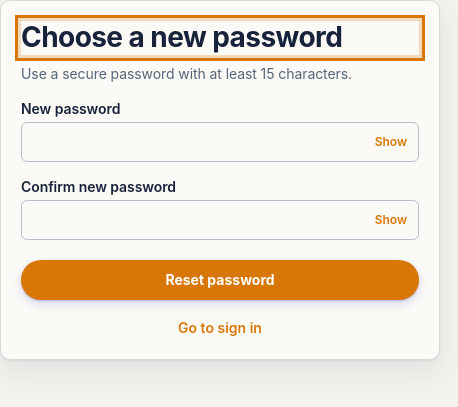
Test: renders reset fields, removes the proof from browser history, and validates mismatches
Type "a secure replacement password" into the password field labelled "New password" at (220, 142), box [21, 122, 419, 162]
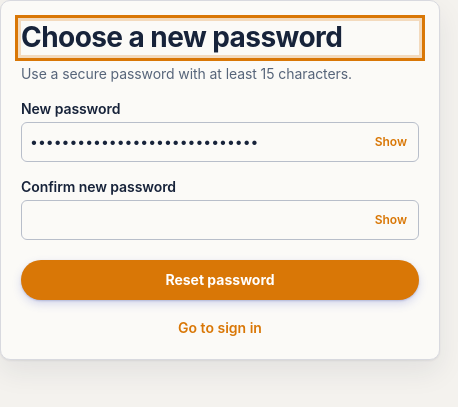
Type "different replacement password" into the password field labelled "Confirm new password" at (220, 220), box [21, 200, 419, 240]
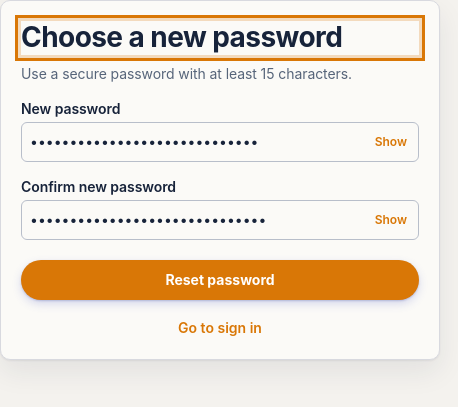
Click the button "Reset password" at (220, 280), box [21, 260, 419, 300]
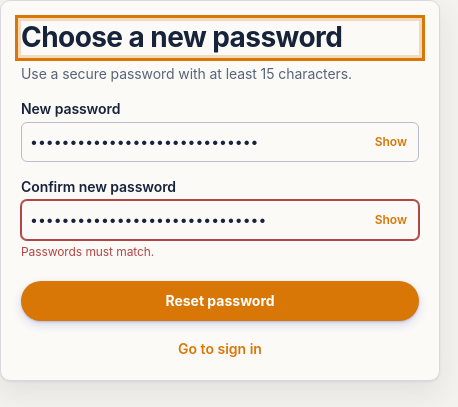
Expected: the message reads "Passwords must match.", [21, 244, 154, 259]
